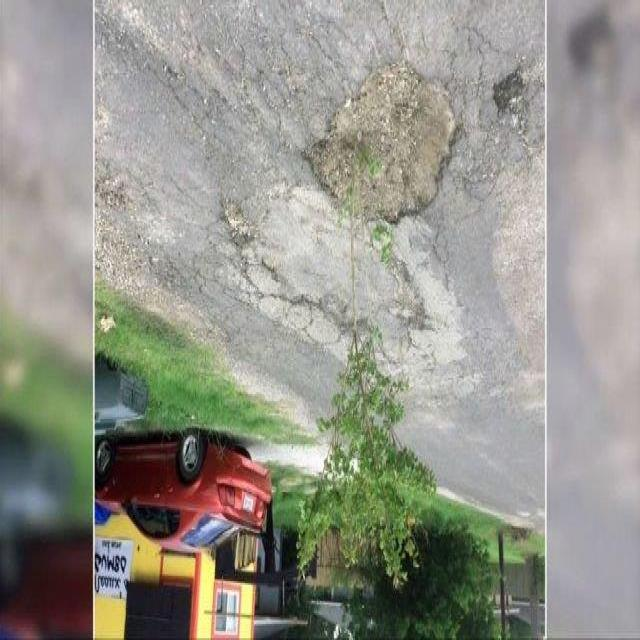jalan retak: (234, 14, 320, 162), (162, 41, 262, 150), (258, 254, 340, 386), (462, 20, 501, 226), (188, 253, 266, 303), (150, 175, 219, 231), (393, 288, 439, 360)
lubang: (302, 54, 474, 238), (492, 44, 544, 184), (214, 184, 268, 260), (316, 292, 374, 358), (96, 160, 152, 220)
